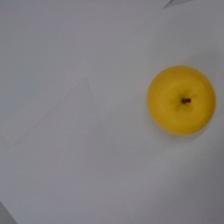yellow: (143, 59, 221, 140)
